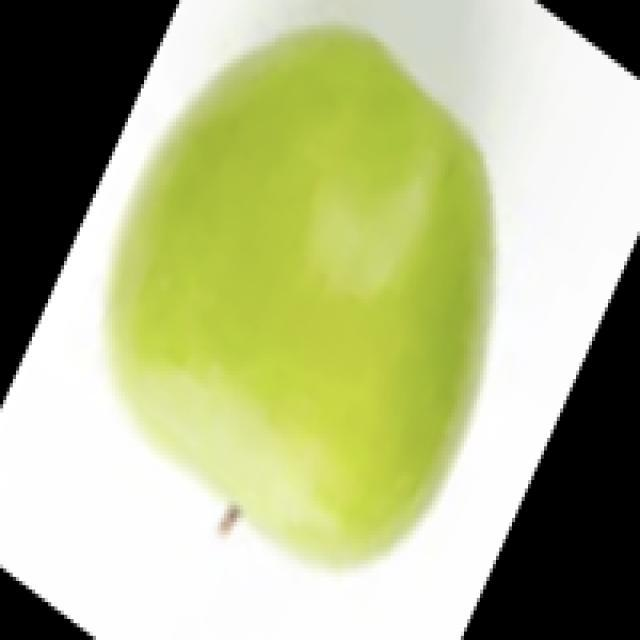Fresh Apple: (112, 28, 510, 550)
